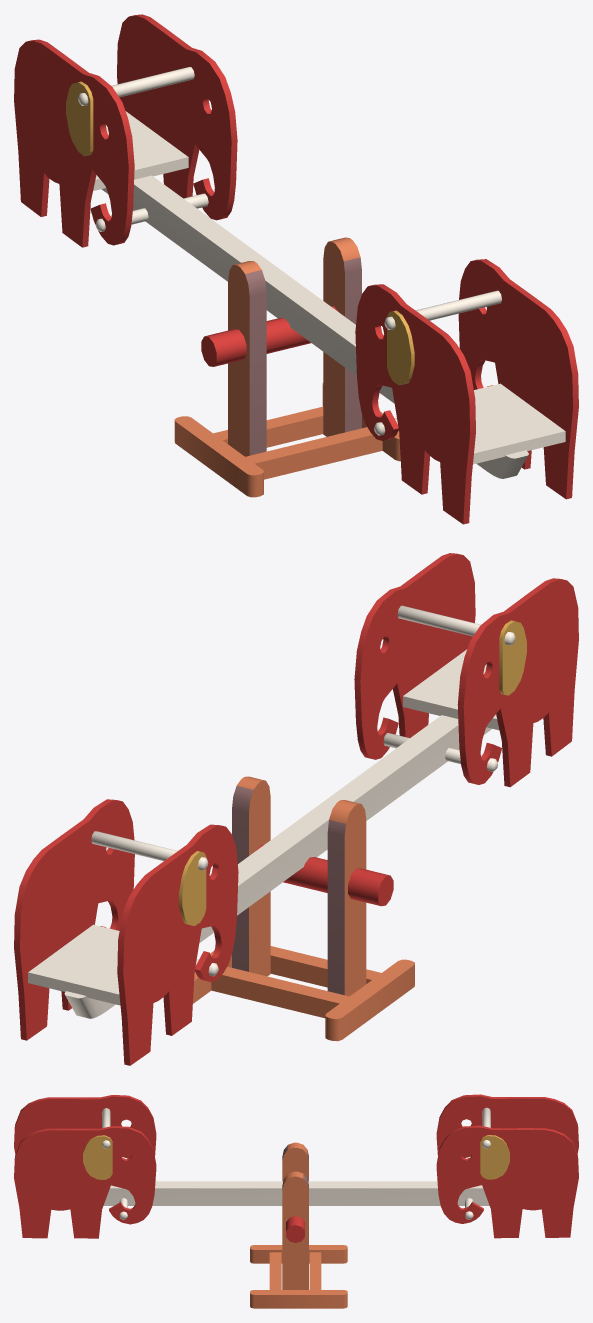
The model's file is SeeSaw_Elephant_01.fbx.
The picture shows the model from 3 angles, top to bottom: view 1: azimuth 30°, elevation 25°; view 2: azimuth 150°, elevation 25°; view 3: azimuth 270°, elevation 25°; orthographic projection. The views are drawn at different scales.
Parts seen in each view (by area): view 1: SeeSaw_Elephant_01_top, SeeSaw_Elephant_01_bottom; view 2: SeeSaw_Elephant_01_top, SeeSaw_Elephant_01_bottom; view 3: SeeSaw_Elephant_01_top, SeeSaw_Elephant_01_bottom.
Boxes of the visible parts, <box> form: SeeSaw_Elephant_01_top: <box>14,14,578,524</box>; SeeSaw_Elephant_01_bottom: <box>174,237,400,497</box>; SeeSaw_Elephant_01_top: <box>14,553,578,1065</box>; SeeSaw_Elephant_01_bottom: <box>193,776,414,1041</box>; SeeSaw_Elephant_01_top: <box>14,1094,578,1238</box>; SeeSaw_Elephant_01_bottom: <box>250,1142,347,1308</box>.
Bounding box in the file's own units: 0.7842 × 1.21 × 3.59.
